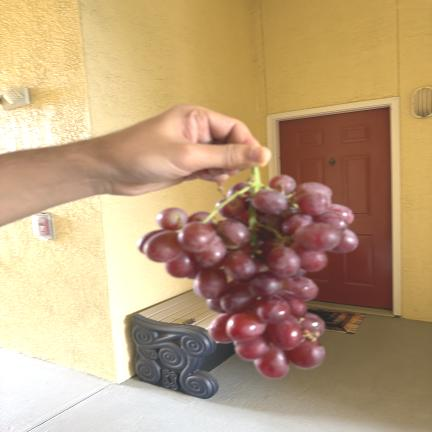grape_cluster: (137, 168, 359, 378)
